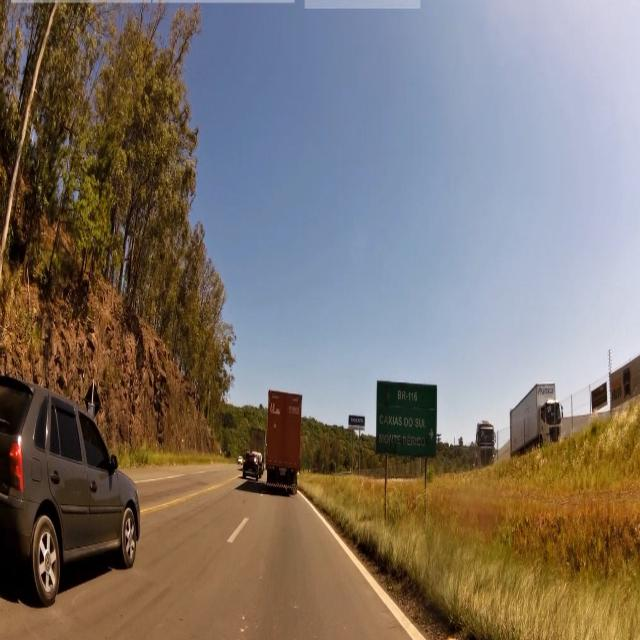I-4: (378, 382, 434, 453)
